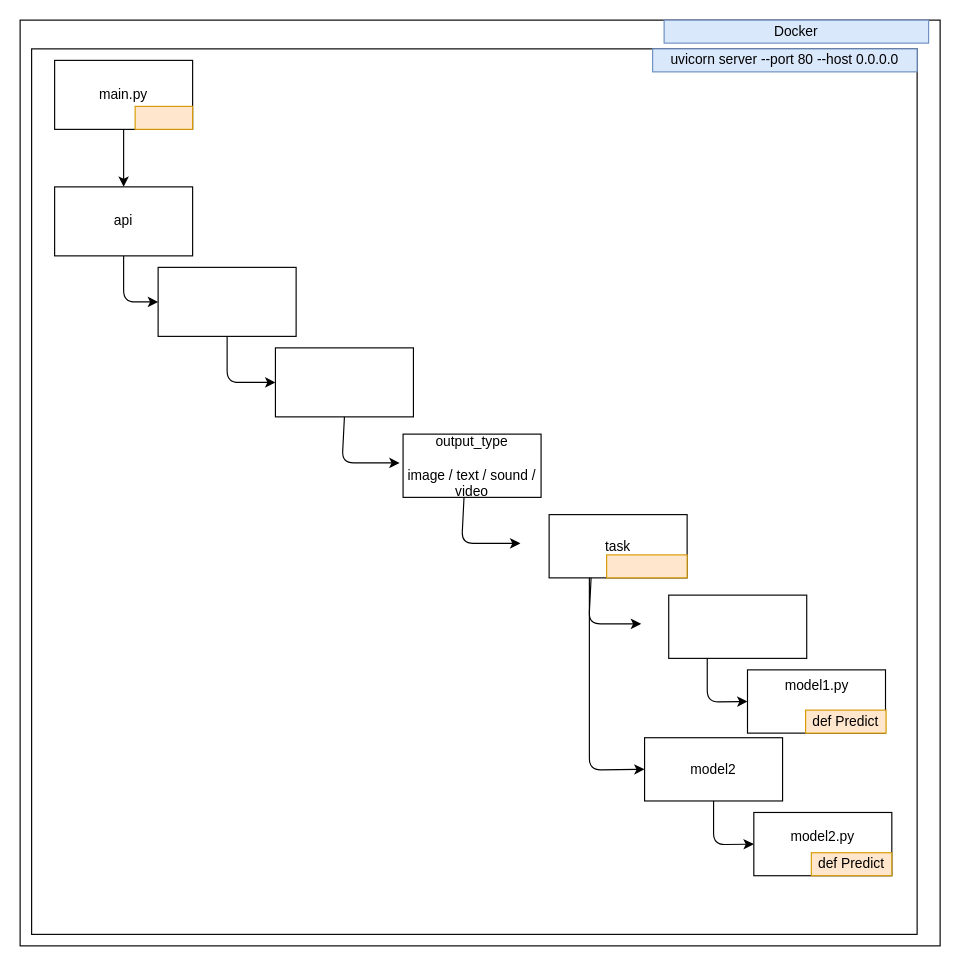
Image size: 960x966. Some labels were removed from this diagram. The centre of each missing label's shape, as x and y in pixels:
"apis" belongs at point 226,301.
"FastAPI" belongs at point 163,117.
"input_type image / text / sound / video" belongs at point 343,382.
"model1" belongs at point 737,626.
"TaskRouter" belongs at point 646,566.
